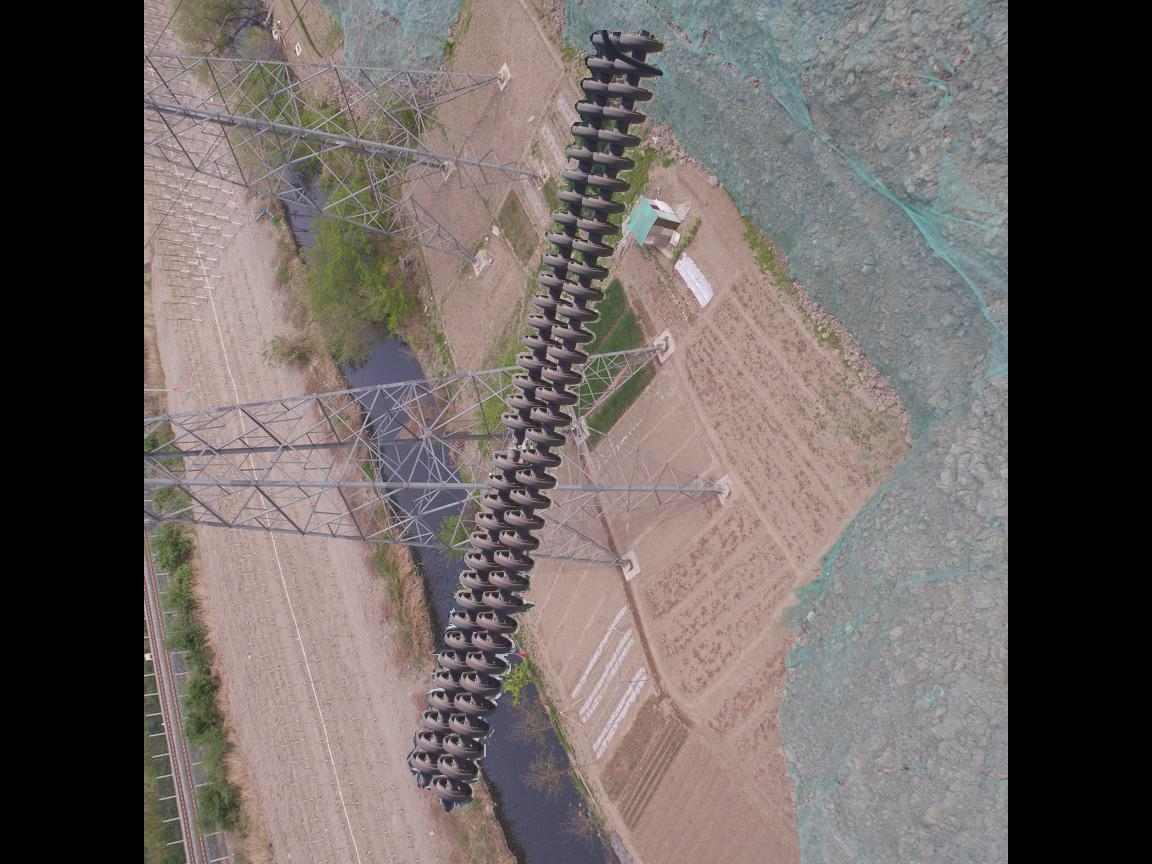insulator: (402, 26, 668, 808)
insulator_stringdrop: (488, 410, 537, 475)
